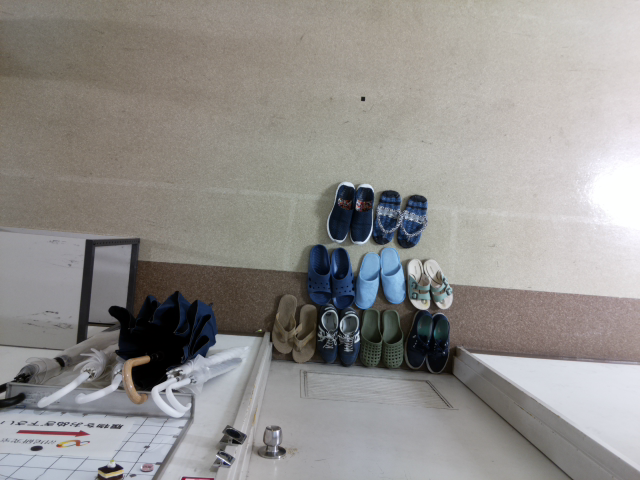Copy of Copy of Copy of Copy of Copy of Copy of Copy of Copy of Copy of Copy of: (419, 307, 458, 376), (330, 304, 366, 373), (267, 289, 303, 358), (401, 306, 436, 375), (376, 306, 411, 375), (352, 306, 387, 375), (313, 301, 348, 370), (288, 299, 323, 368)
Copy of Copy of Copy of Copy of Copy of Copy of Copy of Copy of Copy of shoe: (417, 250, 456, 319)
Copy of Copy of Copy of Copy of Copy of Copy of Copy of Copy of shoe: (395, 250, 434, 319)
Copy of Copy of Copy of Copy of Copy of Copy of Copy of shoe: (368, 240, 407, 309)
Copy of Copy of Copy of Copy of Copy of Copy of shoe: (346, 243, 385, 312)
Copy of Copy of Copy of Copy of Copy of shoe: (319, 240, 358, 309)
Copy of Copy of Copy of Copy of shoe: (298, 239, 337, 308)
Copy of Copy of Copy of shoe: (393, 185, 432, 255)
Copy of Copy of shoe: (366, 181, 405, 251)
Copy of shoe: (341, 180, 379, 249)
shoe: (320, 177, 359, 247)
